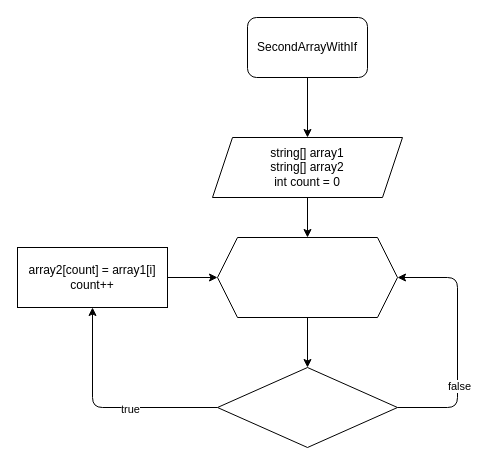
The diagram is 488 pixels wide and 465 high, and some of its shapes have lost their labels. Here are the shapes that lost their labels. From the top down, the centre of each, then its label:
At [307,277]: "for (int i = 0; i<array1.lenght; i++)".
At [307,407]: "if (array1[i].lenght <= 3)".
